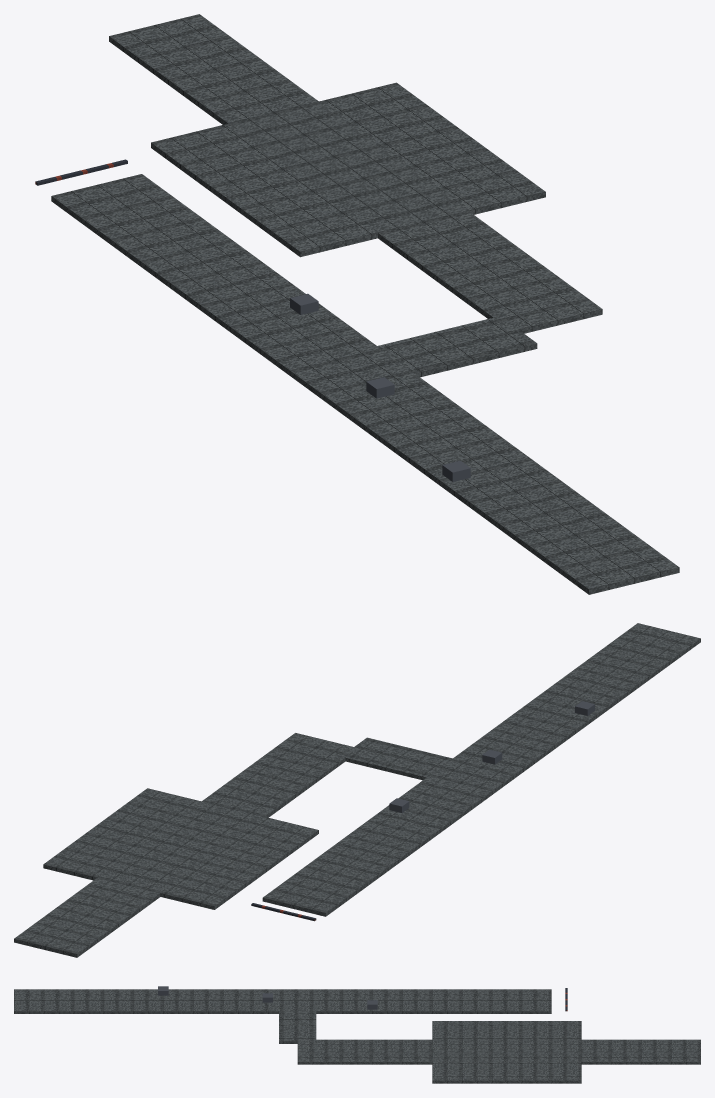
The model's file is MB_C_Removable_Roofs.fbx.
The picture shows the model from 3 angles, top to bottom: view 1: azimuth 30°, elevation 25°; view 2: azimuth 150°, elevation 25°; view 3: azimuth 270°, elevation 25°; orthographic projection. The views are drawn at different scales.
Visible parts, largest first — view 1: MB_C_Removable_Roofs_Dressing_3_1, MB_C_Removable_Roofs_Dressing_1_0, MB_C_Removable_Roofs_Dressing_3_0, MB_C_Removable_Roofs_Dressing_2_0, SideConnectorRoof; view 2: MB_C_Removable_Roofs_Dressing_3_1, MB_C_Removable_Roofs_Dressing_3_0, MB_C_Removable_Roofs_Dressing_1_0, MB_C_Removable_Roofs_Dressing_2_0, SideConnectorRoof; view 3: MB_C_Removable_Roofs_Dressing_3_1, MB_C_Removable_Roofs_Dressing_3_0, MB_C_Removable_Roofs_Dressing_1_0, MB_C_Removable_Roofs_Dressing_2_0, SideConnectorRoof.
Boxes of the visible parts, x1,y1,x2,y2 form: MB_C_Removable_Roofs_Dressing_3_1: [109, 14, 602, 333]; MB_C_Removable_Roofs_Dressing_1_0: [410, 436, 679, 594]; MB_C_Removable_Roofs_Dressing_3_0: [51, 174, 320, 332]; MB_C_Removable_Roofs_Dressing_2_0: [230, 305, 499, 463]; SideConnectorRoof: [371, 317, 537, 377]; MB_C_Removable_Roofs_Dressing_3_1: [14, 733, 357, 957]; MB_C_Removable_Roofs_Dressing_3_0: [262, 806, 450, 916]; MB_C_Removable_Roofs_Dressing_1_0: [513, 623, 700, 733]; MB_C_Removable_Roofs_Dressing_2_0: [388, 714, 575, 824]; SideConnectorRoof: [345, 737, 456, 780]; MB_C_Removable_Roofs_Dressing_3_1: [297, 1021, 700, 1083]; MB_C_Removable_Roofs_Dressing_3_0: [372, 989, 551, 1013]; MB_C_Removable_Roofs_Dressing_1_0: [14, 989, 193, 1013]; MB_C_Removable_Roofs_Dressing_2_0: [193, 989, 372, 1013]; SideConnectorRoof: [279, 1010, 316, 1043].
Size of the model in its own units: 2900 by 110 by 9200.
Materials: 3 (2 with a texture image).
